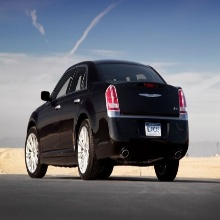no damage: (24, 59, 191, 181)
